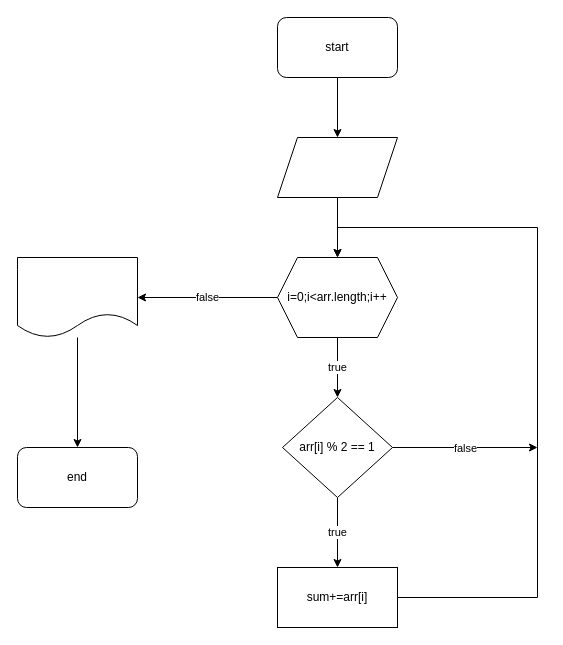
Some shapes in this 563 by 645 pixel diagram are drawn without their labels. The centre of each missing label's shape, as x and y in pixels:
"arr, sum=0" belongs at pixel 337 167.
"sum" belongs at pixel 77 297.
